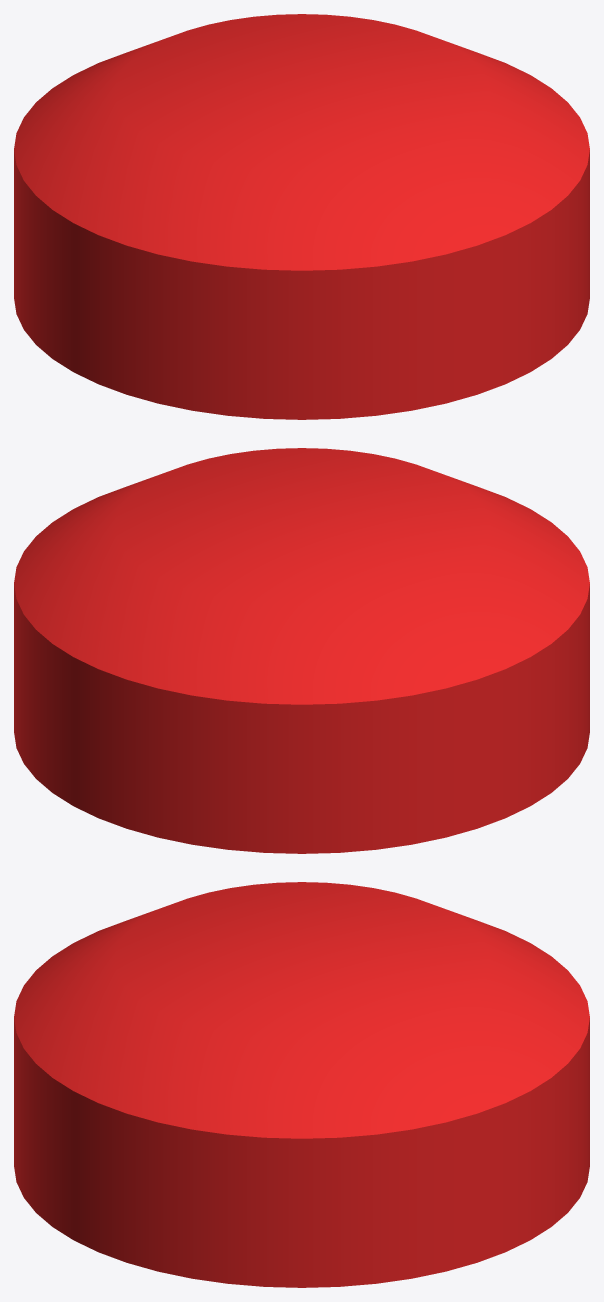
Rendered from SM_DangerButton_Cap.fbx.
3 views of the same model, one above another, from view 1: azimuth 30°, elevation 25°; view 2: azimuth 150°, elevation 25°; view 3: azimuth 270°, elevation 25° (orthographic).
Parts seen in each view (by area): view 1: SM_DangerButton_Cap; view 2: SM_DangerButton_Cap; view 3: SM_DangerButton_Cap.
Part boxes in pixels (x1=…): SM_DangerButton_Cap: x1=14, y1=14, x2=589, y2=419; SM_DangerButton_Cap: x1=14, y1=448, x2=589, y2=853; SM_DangerButton_Cap: x1=14, y1=882, x2=589, y2=1287.
Bounding box in the file's own units: 56 × 22 × 56.
